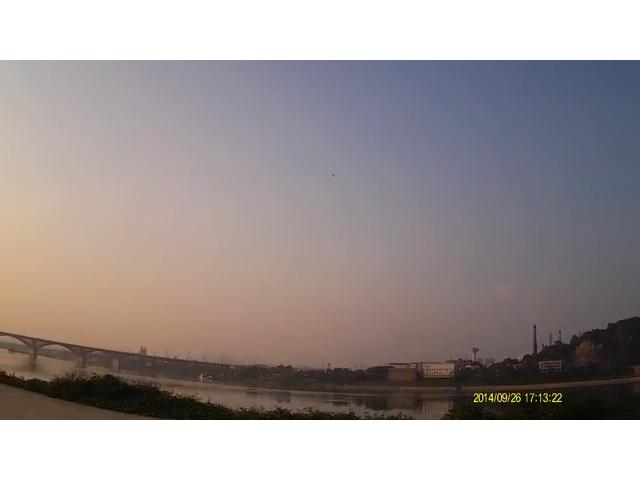Anti-Drone: (326, 168, 342, 184)
